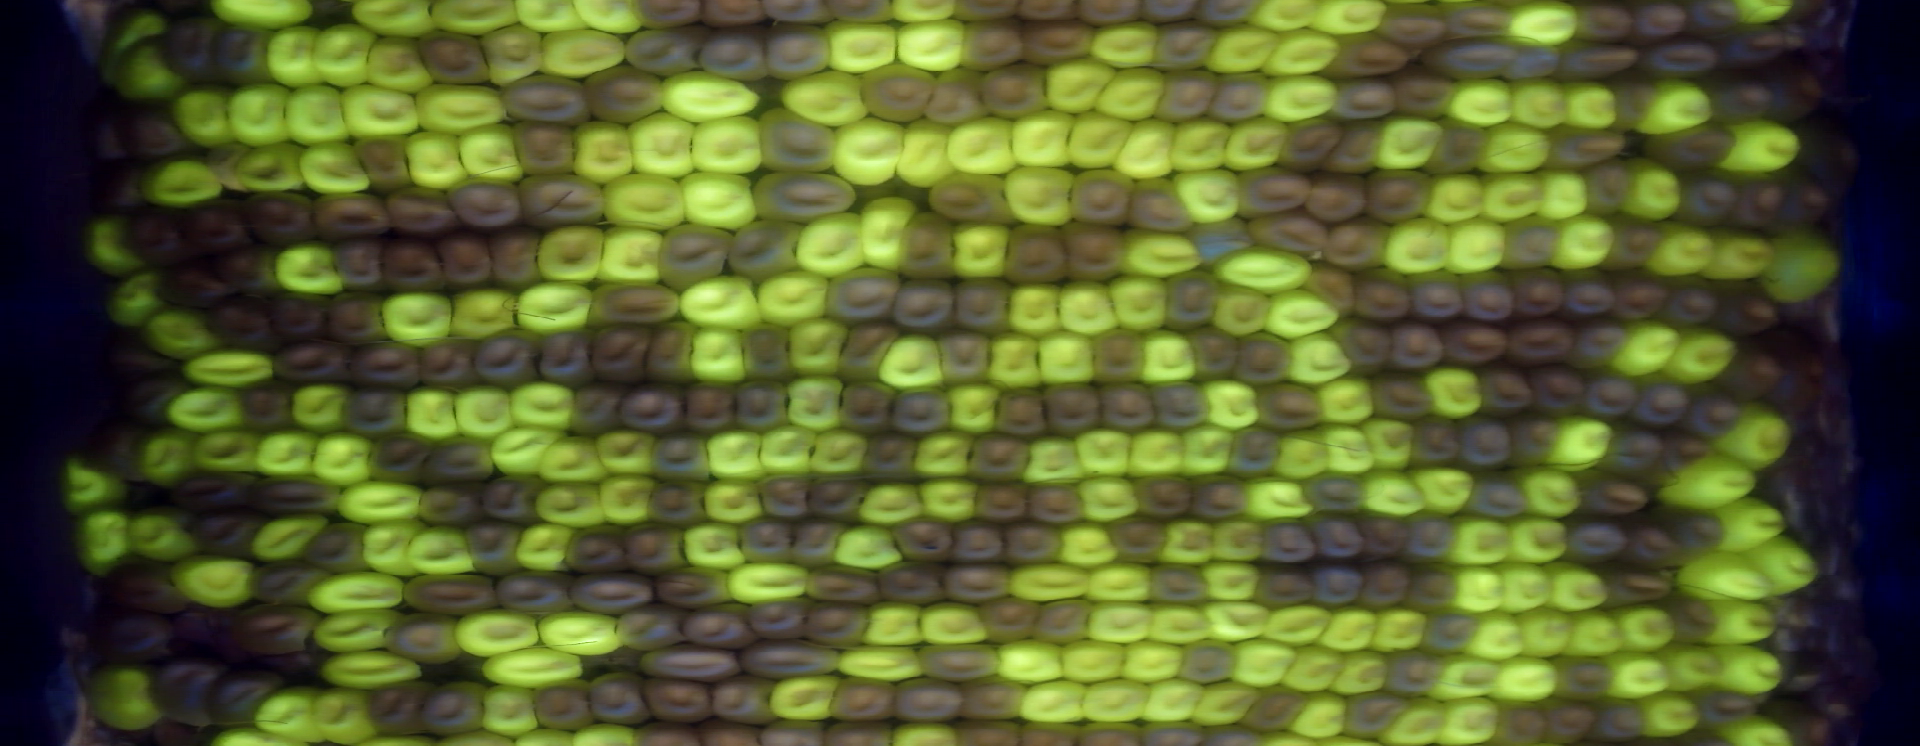fluorescent: (1758, 220, 1847, 304), (1706, 396, 1798, 474), (102, 29, 195, 105), (89, 1, 169, 89), (653, 62, 767, 124), (778, 62, 876, 134), (1656, 450, 1763, 513), (595, 167, 693, 236), (164, 548, 263, 616), (673, 165, 770, 235), (78, 663, 167, 739), (411, 78, 520, 138), (48, 450, 140, 521), (333, 77, 427, 145), (1671, 548, 1782, 605), (1109, 222, 1209, 285), (675, 269, 769, 336), (130, 148, 231, 209), (1629, 71, 1720, 138), (535, 22, 632, 86), (686, 111, 770, 184), (302, 563, 413, 619), (313, 643, 429, 696), (218, 77, 296, 154), (790, 205, 869, 281), (369, 285, 458, 353), (451, 118, 534, 190), (452, 601, 551, 661), (1718, 113, 1806, 180), (939, 111, 1022, 183), (589, 220, 672, 292), (1697, 218, 1787, 284), (241, 508, 336, 571), (277, 78, 358, 151), (999, 162, 1080, 234), (1209, 243, 1319, 295), (507, 276, 601, 337), (624, 107, 702, 181), (306, 16, 382, 91), (257, 18, 331, 96), (829, 114, 906, 187), (853, 192, 921, 276), (1380, 211, 1460, 281), (890, 111, 958, 194), (529, 218, 611, 285), (476, 639, 589, 688), (1708, 491, 1791, 557), (530, 606, 629, 661), (872, 327, 953, 394), (309, 605, 414, 657), (122, 505, 206, 570), (568, 114, 640, 189), (942, 214, 1018, 285), (69, 503, 140, 579), (1167, 162, 1247, 229), (1742, 532, 1824, 597), (1473, 118, 1560, 179), (163, 80, 238, 151), (137, 305, 229, 363), (358, 29, 436, 97), (1277, 326, 1357, 392), (1040, 53, 1120, 118), (1614, 152, 1685, 225), (291, 138, 378, 198), (396, 379, 470, 448), (1665, 321, 1740, 391), (720, 554, 817, 608), (820, 13, 904, 76), (1638, 216, 1722, 278), (301, 426, 378, 494), (1259, 24, 1344, 85), (682, 318, 754, 390), (1540, 408, 1613, 479), (253, 681, 336, 744), (78, 209, 147, 284), (1060, 107, 1136, 174), (754, 265, 831, 331), (1089, 62, 1172, 124), (1544, 209, 1624, 273), (528, 477, 620, 532), (399, 518, 480, 581), (99, 265, 171, 334), (1607, 315, 1680, 383), (438, 282, 520, 343), (1111, 111, 1177, 187), (1051, 274, 1127, 341), (356, 514, 432, 581), (269, 236, 347, 301), (331, 477, 432, 526), (1003, 559, 1100, 610), (1082, 15, 1167, 73), (174, 345, 287, 390), (230, 138, 311, 200), (306, 679, 380, 746), (1513, 461, 1589, 526), (1370, 111, 1446, 176), (1536, 557, 1618, 617), (891, 13, 969, 77), (164, 382, 251, 439), (185, 423, 272, 479), (1602, 599, 1689, 655), (1261, 69, 1344, 127), (1224, 633, 1308, 692), (912, 597, 997, 654), (1234, 470, 1322, 526), (474, 24, 549, 89), (991, 632, 1076, 688), (504, 375, 583, 436), (835, 638, 931, 688), (1258, 285, 1344, 341), (1100, 269, 1171, 337), (1032, 323, 1103, 391), (451, 380, 525, 443), (1220, 114, 1296, 176), (1201, 20, 1277, 82), (1703, 594, 1785, 652), (404, 126, 473, 195), (1441, 510, 1520, 570), (999, 277, 1070, 343), (1202, 278, 1277, 341), (1420, 167, 1495, 229), (1011, 673, 1093, 729), (1007, 107, 1075, 174), (785, 314, 856, 379), (133, 426, 204, 491), (1441, 212, 1512, 277), (778, 371, 850, 435), (1163, 114, 1237, 176), (1483, 650, 1566, 706), (763, 669, 842, 726), (1016, 431, 1091, 492), (850, 474, 931, 530), (1185, 676, 1270, 730), (982, 327, 1048, 396), (531, 430, 613, 485), (1079, 595, 1161, 650), (1709, 642, 1788, 699), (485, 424, 564, 480), (1406, 461, 1482, 519), (827, 521, 911, 573), (1078, 674, 1160, 728), (1310, 419, 1384, 479), (1068, 470, 1147, 526), (247, 430, 327, 485), (1490, 557, 1560, 620), (1112, 635, 1193, 688), (509, 518, 580, 579), (1474, 167, 1551, 223), (1069, 423, 1141, 483), (478, 680, 550, 740), (912, 472, 987, 529), (198, 135, 261, 203), (283, 379, 354, 439), (1277, 638, 1349, 697), (1173, 419, 1239, 483), (588, 423, 662, 479), (1311, 601, 1386, 658), (1419, 361, 1488, 423), (856, 595, 932, 650), (1431, 647, 1507, 702), (700, 426, 771, 485), (1441, 73, 1518, 127), (1255, 598, 1340, 647), (1501, 510, 1575, 566), (1135, 325, 1201, 387), (1079, 559, 1161, 609), (1636, 688, 1711, 744), (1461, 608, 1531, 666), (1142, 597, 1218, 650), (1133, 674, 1209, 728), (1509, 601, 1580, 659), (206, 1, 324, 36), (591, 468, 659, 528), (1442, 559, 1510, 619), (1199, 374, 1267, 432), (1122, 425, 1190, 484), (1656, 641, 1730, 695), (806, 424, 876, 481), (696, 473, 771, 526), (905, 428, 977, 483), (756, 420, 820, 481), (1502, 73, 1567, 135), (1153, 514, 1220, 575), (1559, 603, 1630, 658), (942, 379, 1007, 439), (1359, 412, 1419, 477), (1528, 163, 1593, 223), (1193, 557, 1270, 608), (1052, 518, 1125, 571), (676, 518, 749, 571), (1378, 693, 1451, 746), (1311, 372, 1381, 428), (1057, 632, 1131, 684), (1270, 426, 1333, 486), (1558, 78, 1624, 136), (1605, 649, 1674, 704), (1204, 595, 1278, 646), (1502, 1, 1581, 49), (424, 1, 522, 39), (1283, 687, 1356, 739), (1326, 646, 1396, 698), (1360, 465, 1431, 517), (1367, 601, 1433, 657), (345, 1, 436, 40), (1434, 693, 1502, 745), (1202, 512, 1266, 567), (564, 1, 651, 39), (1307, 1, 1392, 39), (1714, 709, 1800, 746), (509, 1, 593, 38), (1244, 1, 1321, 34), (885, 1, 962, 29)
nonfluorescent: (1749, 323, 1834, 412), (142, 650, 234, 733), (744, 167, 864, 227), (749, 103, 842, 179), (917, 165, 1021, 233), (80, 601, 178, 673), (651, 218, 738, 296), (1788, 110, 1866, 197), (509, 169, 612, 235), (493, 70, 600, 134), (576, 58, 671, 129), (813, 261, 909, 332), (234, 184, 329, 254), (720, 212, 811, 285), (1704, 333, 1794, 405), (229, 597, 328, 661), (889, 206, 967, 288), (1638, 118, 1745, 178), (110, 91, 200, 162), (239, 465, 349, 523), (1412, 31, 1529, 85), (620, 21, 721, 82), (1686, 64, 1782, 129), (151, 13, 231, 89), (440, 171, 531, 238), (856, 58, 943, 127), (1315, 26, 1418, 85), (94, 551, 187, 616), (735, 632, 849, 685), (1753, 51, 1832, 127), (582, 277, 689, 332), (396, 567, 506, 621), (118, 201, 203, 269), (1356, 164, 1442, 232), (163, 601, 251, 668), (634, 636, 753, 685), (200, 663, 283, 733), (998, 216, 1075, 290), (76, 410, 149, 489), (410, 27, 498, 92), (171, 195, 260, 260), (1646, 501, 1731, 567), (411, 431, 506, 491), (388, 608, 475, 673), (1704, 271, 1785, 341), (373, 227, 451, 299), (304, 183, 399, 240), (506, 111, 583, 183), (561, 565, 662, 619), (1315, 110, 1393, 180), (1063, 163, 1142, 232), (693, 21, 776, 86), (377, 184, 469, 243), (887, 271, 962, 342), (1423, 111, 1499, 183), (1537, 120, 1632, 176), (1494, 312, 1587, 370), (1669, 167, 1750, 233), (1244, 205, 1335, 263), (340, 337, 431, 396), (611, 376, 693, 441), (758, 17, 841, 81), (582, 321, 658, 391), (583, 665, 659, 735), (910, 637, 1013, 688), (160, 465, 266, 516), (1053, 220, 1133, 287), (465, 326, 545, 392), (1033, 376, 1113, 442), (970, 61, 1056, 122), (492, 565, 583, 622), (182, 501, 266, 563), (636, 314, 703, 391), (1648, 269, 1727, 336), (201, 292, 285, 353), (108, 369, 189, 432), (1566, 464, 1656, 522), (634, 670, 720, 730), (1704, 18, 1798, 73), (1251, 379, 1333, 441), (820, 669, 902, 731), (429, 224, 503, 293), (1545, 37, 1649, 86), (616, 516, 696, 579), (1647, 587, 1727, 650), (651, 559, 743, 614), (415, 675, 496, 737), (1447, 266, 1528, 328), (1015, 15, 1101, 73), (793, 593, 879, 652), (933, 556, 1022, 612), (1588, 559, 1678, 615), (527, 673, 602, 739), (267, 334, 358, 390), (917, 64, 996, 127), (362, 425, 442, 488), (556, 518, 636, 581), (1145, 15, 1229, 73), (1231, 164, 1319, 220), (834, 317, 904, 388), (242, 555, 334, 609), (675, 597, 760, 654), (1123, 173, 1199, 238), (1150, 62, 1227, 126), (318, 283, 396, 347), (705, 668, 782, 731), (1297, 167, 1374, 230), (1632, 31, 1728, 82), (478, 223, 549, 292), (736, 318, 804, 390), (885, 671, 973, 726), (334, 379, 415, 439), (299, 514, 373, 579), (724, 374, 800, 437), (1319, 209, 1395, 273), (609, 600, 691, 659), (410, 333, 489, 394), (361, 677, 440, 739), (1764, 167, 1837, 233), (1556, 510, 1636, 570), (1598, 416, 1671, 481), (103, 325, 187, 381), (1430, 314, 1515, 370), (954, 12, 1029, 76), (1682, 682, 1771, 736), (1367, 1, 1455, 55), (1594, 207, 1670, 269), (1247, 556, 1324, 617), (209, 21, 278, 89), (460, 512, 529, 581), (971, 590, 1049, 650), (1597, 65, 1657, 143), (1272, 111, 1343, 178), (323, 233, 389, 304), (1156, 268, 1227, 334), (1177, 320, 1248, 386), (831, 375, 902, 441), (1226, 328, 1298, 393), (80, 92, 138, 171), (1449, 410, 1522, 474), (1347, 260, 1420, 323), (1460, 463, 1536, 524), (949, 671, 1037, 724), (1365, 363, 1442, 423), (676, 374, 742, 443), (1389, 56, 1458, 122), (1200, 69, 1278, 127), (1089, 375, 1161, 439), (1123, 469, 1202, 527), (1600, 265, 1676, 325), (873, 555, 954, 611), (1320, 71, 1404, 125), (1757, 692, 1842, 746), (931, 322, 998, 390), (947, 272, 1015, 338), (561, 376, 629, 442), (1142, 377, 1220, 436), (803, 561, 891, 612), (1331, 312, 1400, 379), (351, 130, 422, 194), (211, 243, 289, 300), (1217, 423, 1291, 484), (1624, 369, 1697, 430), (1183, 217, 1262, 273), (962, 428, 1037, 488), (647, 426, 721, 486), (151, 258, 231, 314), (533, 325, 600, 391), (1084, 326, 1153, 390), (1498, 405, 1561, 475), (1723, 168, 1793, 232), (1613, 513, 1690, 571), (1495, 212, 1572, 269), (1644, 425, 1716, 488), (1678, 379, 1749, 441), (731, 510, 803, 571), (1373, 644, 1445, 706), (1183, 469, 1261, 526), (1168, 635, 1247, 691), (885, 512, 960, 571), (1547, 647, 1621, 706), (1521, 359, 1596, 418), (1236, 680, 1311, 737), (411, 477, 492, 530), (880, 382, 958, 439), (800, 469, 872, 529), (1562, 310, 1631, 372), (1551, 265, 1629, 320), (475, 470, 549, 528), (1340, 686, 1413, 744), (856, 424, 924, 485), (1139, 556, 1218, 609), (993, 516, 1069, 571), (1029, 592, 1100, 650), (1102, 511, 1173, 570), (263, 288, 336, 345), (1380, 316, 1452, 374), (1474, 356, 1542, 418), (749, 467, 819, 526), (1431, 1, 1517, 49), (1504, 263, 1576, 320), (1404, 410, 1471, 472), (987, 385, 1056, 443), (1402, 268, 1477, 322), (1494, 36, 1569, 89), (1303, 556, 1373, 614), (1297, 507, 1368, 563), (1300, 255, 1364, 317), (1398, 555, 1464, 615), (1020, 478, 1095, 530), (1577, 363, 1641, 424), (1576, 154, 1640, 216), (84, 157, 151, 216), (782, 513, 849, 572), (1801, 668, 1867, 726), (1531, 692, 1604, 745), (1251, 513, 1321, 568), (1400, 503, 1462, 565), (1296, 469, 1378, 516), (744, 597, 822, 646), (943, 516, 1013, 570), (639, 475, 711, 527), (1586, 693, 1656, 746), (1353, 552, 1413, 614), (235, 375, 299, 432), (1416, 604, 1482, 659), (1487, 695, 1556, 746), (1351, 510, 1416, 562), (1564, 1, 1638, 47), (969, 477, 1035, 527), (1674, 1, 1746, 45), (1626, 1, 1691, 49), (626, 1, 709, 36), (813, 714, 902, 746), (751, 715, 829, 746), (951, 717, 1030, 746), (691, 1, 770, 29), (754, 1, 836, 28), (1011, 718, 1085, 746)
